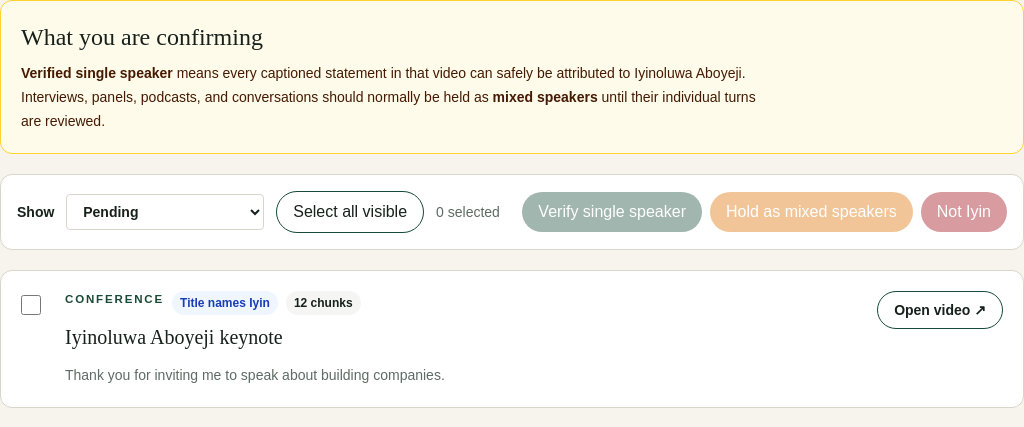
requires explicit selection and confirmation before verifying a speaker
Click the checkbox named "Select Iyinoluwa Aboyeji keynote". click: (31, 305)
box: left=21, top=295, right=41, bottom=315
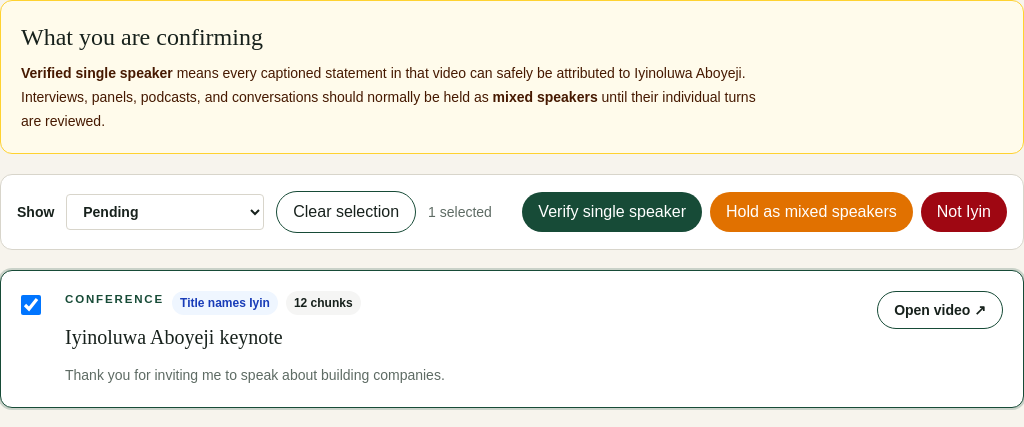
Click the button "Verify single speaker". click: (612, 212)
box: left=522, top=192, right=702, bottom=232
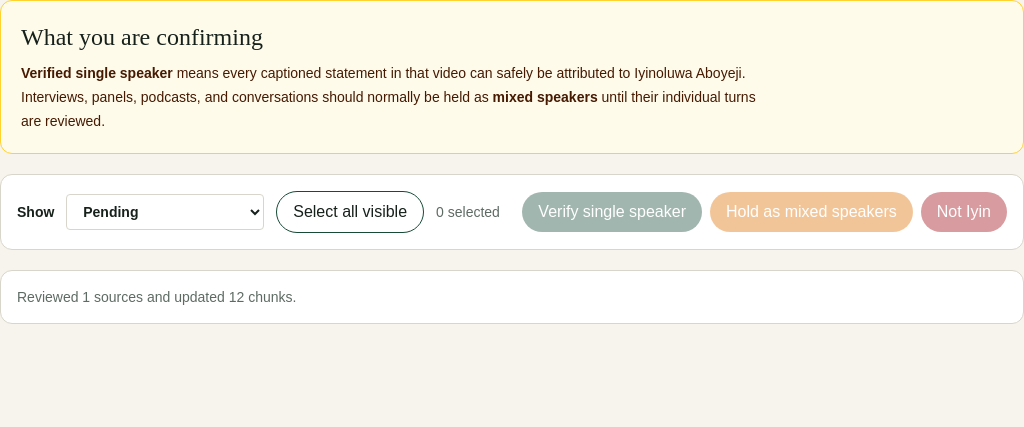
Expected: the text "Reviewed 1 sources and updated 12 chunks." is shown, left=0, top=270, right=1023, bottom=324
